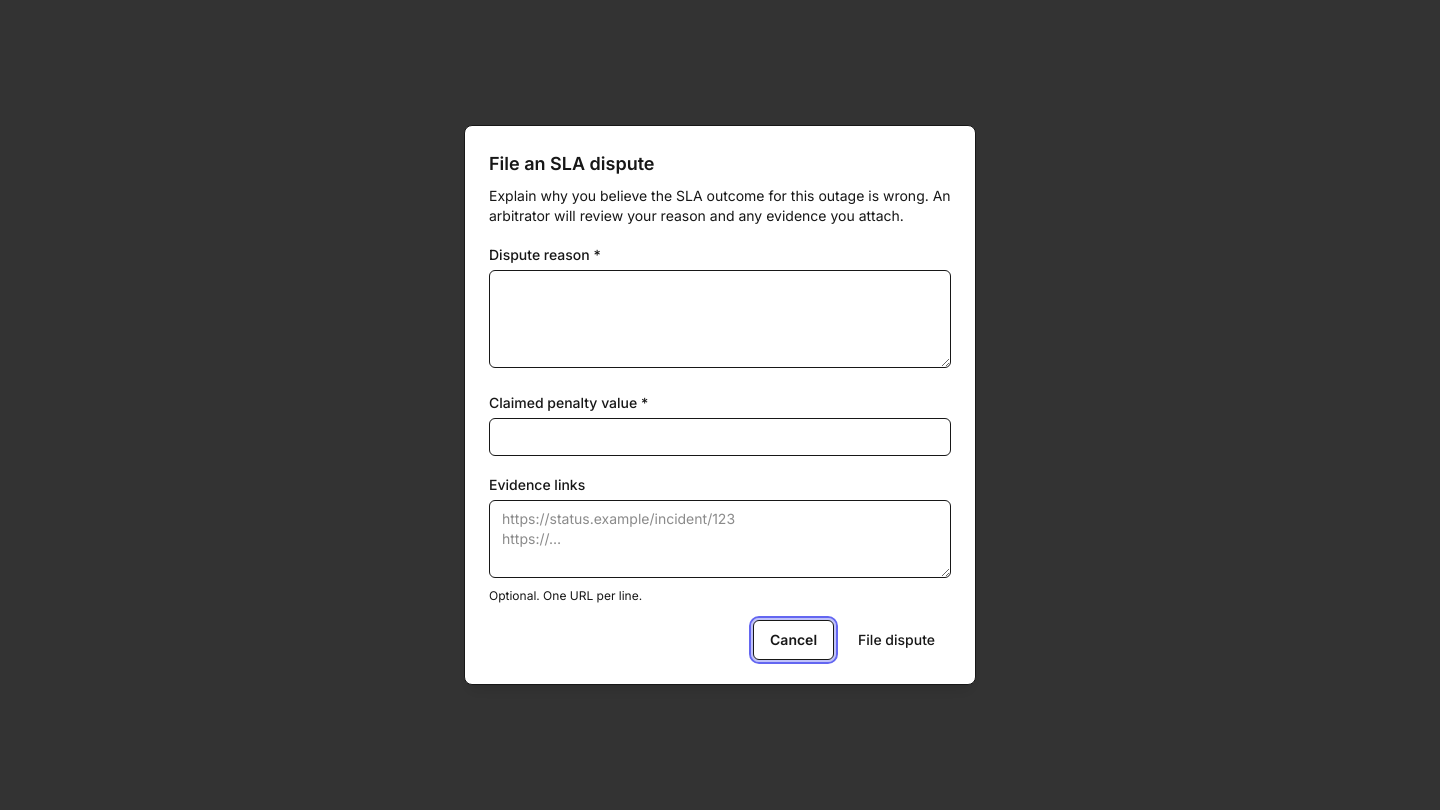
Test: DisputeModal › clears a field error as soon as it is edited
Click the button "File dispute". click: (897, 640)
box: x1=842 y1=620 x2=951 y2=660
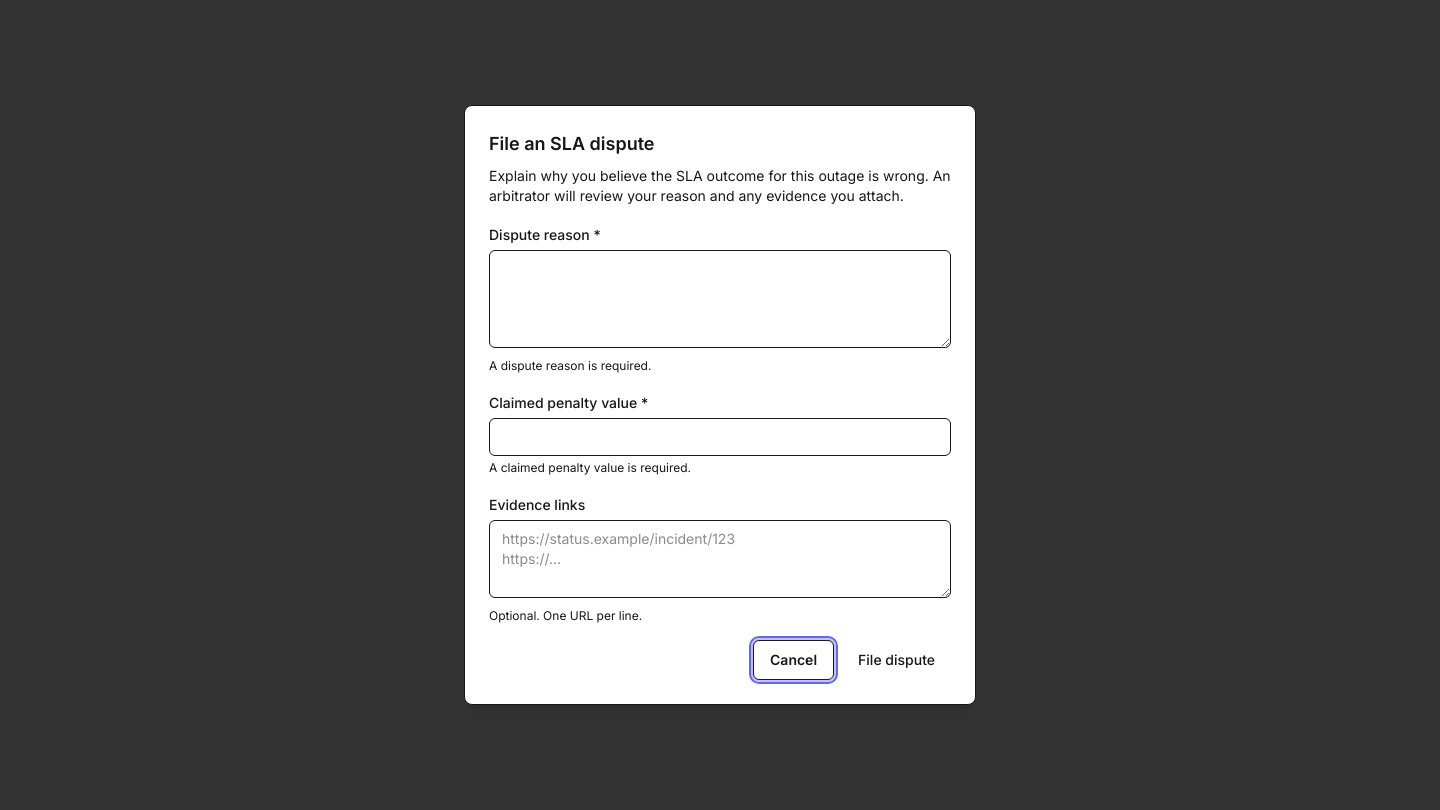
Expected: the text "A dispute reason is required." is shown, x1=489 y1=358 x2=651 y2=373
Type "a" into the text box labelled "Dispute reason *". click: (720, 299)
box: x1=489 y1=250 x2=951 y2=348
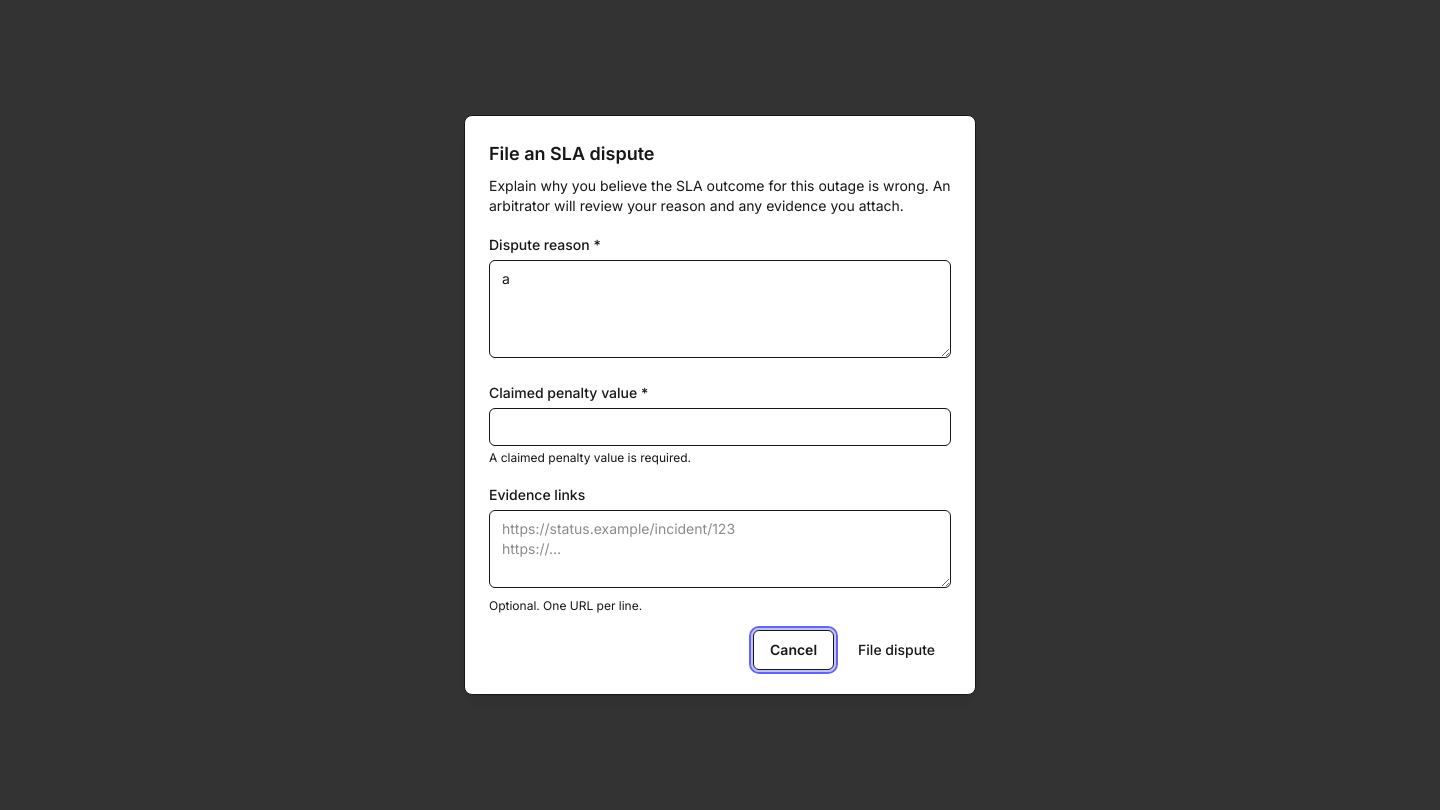
Expected: the text "dispute reason is required" is gone
